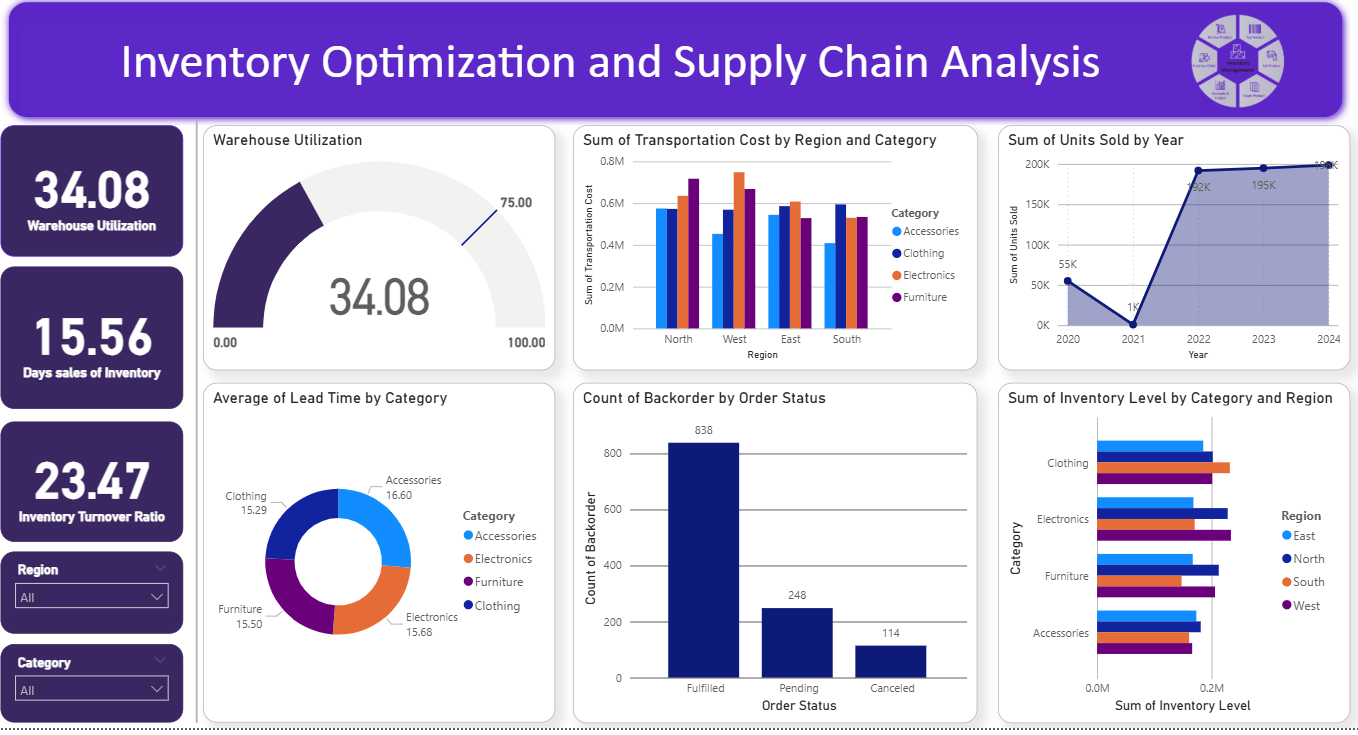

The dashboard page shown, as its layout file describes it:
{"tool":"powerbi","page":{"name":"Page 1","canvas":[1500,800],"ordinal":0},"visuals":[{"type":"shape","box":[13.6,0,1471.7,143.1],"z":0},{"type":"textbox","box":[35.4,35.4,1286.3,95.4],"z":1000},{"type":"image","box":[1259.1,8.2,207.1,129.5],"z":2000},{"type":"shape","box":[220.7,137.6,13.6,656.8],"z":3000},{"type":"card","fields":{"Values":["Inventory SupplyChain Dataset.Warehouse Utilization"]},"box":[13.6,143.1,198.9,143.1],"z":4000},{"type":"card","fields":{"Values":["Inventory SupplyChain Dataset.Days sales of Inventory"]},"box":[13.6,297.1,198.9,155.3],"z":5000},{"type":"card","fields":{"Values":["Inventory SupplyChain Dataset.Inventory Turnover Ratio"]},"box":[13.6,466,198.9,130.8],"z":6000},{"type":"slicer","fields":{"Values":["Inventory SupplyChain Dataset.Region"]},"box":[13.6,607.7,198.9,89.9],"z":7000},{"type":"slicer","fields":{"Values":["Inventory SupplyChain Dataset.Category"]},"box":[13.6,708.6,198.9,85.8],"z":8000},{"type":"gauge","fields":{"Y":["Inventory SupplyChain Dataset.Warehouse Utilization"]},"box":[234.4,143.1,384.3,267.1],"z":8001},{"type":"clusteredColumnChart","fields":{"Category":["Inventory SupplyChain Dataset.Region"],"Y":["Sum(Inventory SupplyChain Dataset.Transportation Cost)"],"Series":["Inventory SupplyChain Dataset.Category"]},"box":[637.7,143.1,441.5,267.1],"z":8002},{"type":"lineChart","fields":{"Category":["Inventory SupplyChain Dataset.Date.Variation.Date Hierarchy.Year"],"Y":["Sum(Inventory SupplyChain Dataset.Units Sold)"]},"box":[1101,143.1,384.3,267.1],"z":8003},{"type":"donutChart","fields":{"Category":["Inventory SupplyChain Dataset.Category"],"Y":["Avg(Inventory SupplyChain Dataset.Lead Time)"]},"box":[234.4,423.8,384.3,370.6],"z":8004},{"type":"columnChart","fields":{"Category":["Inventory SupplyChain Dataset.Order Status"],"Y":["CountNonNull(Inventory SupplyChain Dataset.Backorder)"]},"box":[638,424,441,371],"z":8005},{"type":"clusteredBarChart","fields":{"Y":["Sum(Inventory SupplyChain Dataset.Inventory Level)"],"Category":["Inventory SupplyChain Dataset.Category"],"Series":["Inventory SupplyChain Dataset.Region"]},"box":[1101,424,384,371],"z":8006}]}

Visuals, with their boxes in screenshot pixels (x1, y1, x2, y2), scaled from the page's 1500x800 canvas onto the 1358x735 screenshot:
shape: rect(12, 0, 1345, 131)
textbox: rect(32, 33, 1197, 120)
image: rect(1140, 8, 1327, 127)
shape: rect(200, 126, 212, 730)
card - Inventory SupplyChain Dataset.Warehouse Utilization: rect(12, 131, 192, 263)
card - Inventory SupplyChain Dataset.Days sales of Inventory: rect(12, 273, 192, 416)
card - Inventory SupplyChain Dataset.Inventory Turnover Ratio: rect(12, 428, 192, 548)
slicer - Inventory SupplyChain Dataset.Region: rect(12, 558, 192, 641)
slicer - Inventory SupplyChain Dataset.Category: rect(12, 651, 192, 730)
gauge - Inventory SupplyChain Dataset.Warehouse Utilization: rect(212, 131, 560, 377)
clusteredColumnChart - Inventory SupplyChain Dataset.Region x Sum(Inventory SupplyChain Dataset.Transportation Cost): rect(577, 131, 977, 377)
lineChart - Inventory SupplyChain Dataset.Date.Variation.Date Hierarchy.Year x Sum(Inventory SupplyChain Dataset.Units Sold): rect(997, 131, 1345, 377)
donutChart - Inventory SupplyChain Dataset.Category x Avg(Inventory SupplyChain Dataset.Lead Time): rect(212, 389, 560, 730)
columnChart - Inventory SupplyChain Dataset.Order Status x CountNonNull(Inventory SupplyChain Dataset.Backorder): rect(578, 390, 977, 730)
clusteredBarChart - Sum(Inventory SupplyChain Dataset.Inventory Level) x Inventory SupplyChain Dataset.Category: rect(997, 390, 1344, 730)
